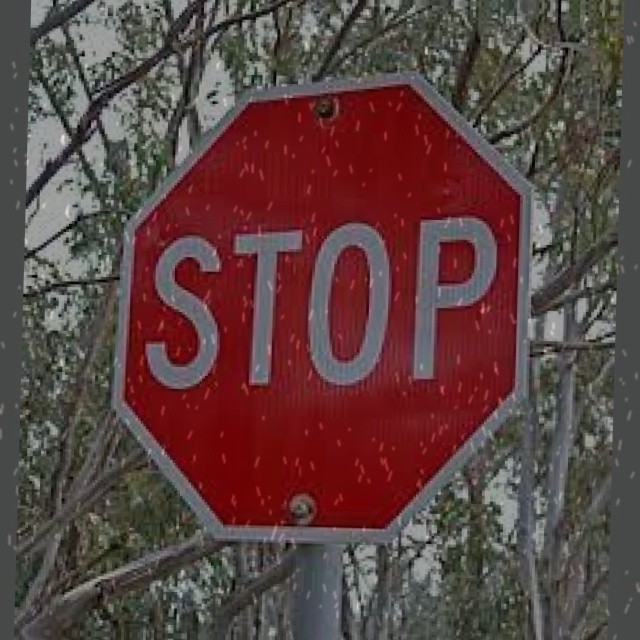Stop: (114, 68, 536, 546)
